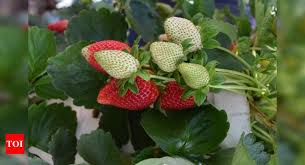ripe: (96, 78, 160, 118), (80, 37, 136, 65), (160, 79, 195, 108), (51, 16, 69, 30)
unripe: (163, 14, 205, 55), (93, 50, 143, 79), (150, 40, 185, 78), (180, 59, 211, 91)
